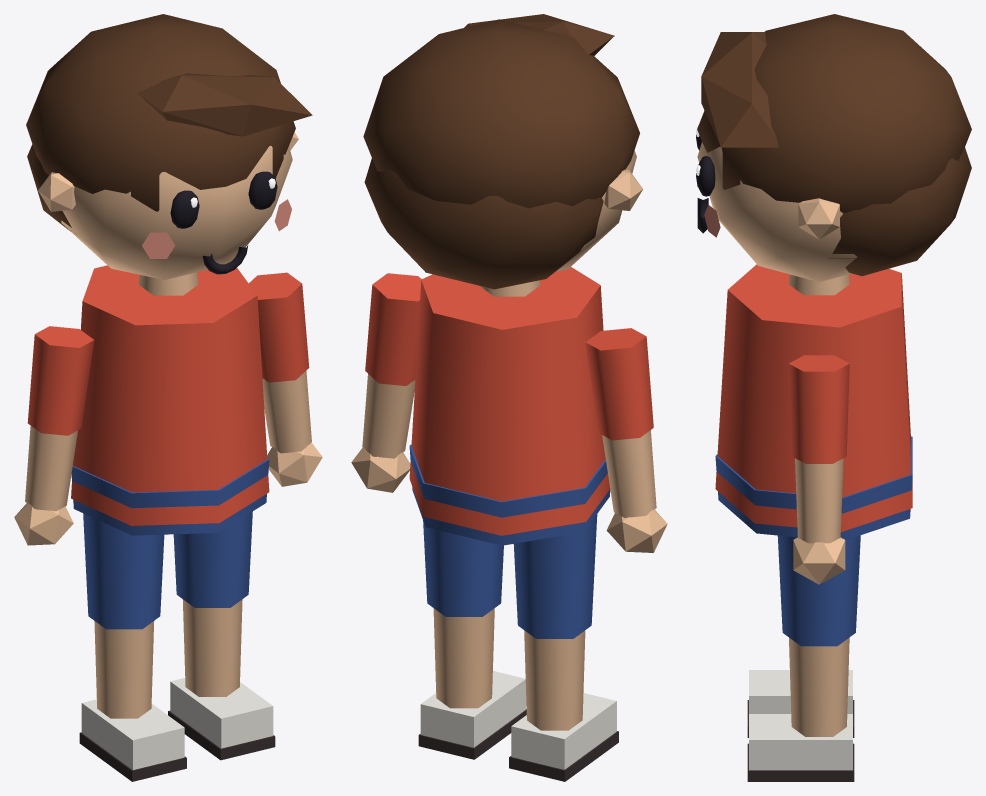
Rendered from leo.glb.
3 renders of one model, left to right at view 1: azimuth 30°, elevation 25°; view 2: azimuth 150°, elevation 25°; view 3: azimuth 270°, elevation 25°, orthographic. The views are drawn at different scales.
Parts seen in each view (by area): view 1: torso, head, body, handL, handR; view 2: torso, head, body, handL, handR; view 3: head, torso, body, handR.
Part boxes in pixels (x1=…): torso: x1=25, y1=265, x2=311, y2=535; head: x1=26, y1=14, x2=312, y2=295; body: x1=79, y1=511, x2=275, y2=781; handL: x1=14, y1=503, x2=73, y2=545; handR: x1=267, y1=442, x2=322, y2=486; torso: x1=362, y1=267, x2=656, y2=545; head: x1=363, y1=14, x2=642, y2=296; body: x1=418, y1=508, x2=618, y2=781; handL: x1=606, y1=509, x2=667, y2=552; handR: x1=351, y1=447, x2=410, y2=492; head: x1=696, y1=14, x2=971, y2=295; torso: x1=715, y1=264, x2=912, y2=543; body: x1=747, y1=535, x2=860, y2=781; handR: x1=793, y1=537, x2=845, y2=584.
Bounding box in the file's own units: 0.5635 × 1.29 × 0.4518.
